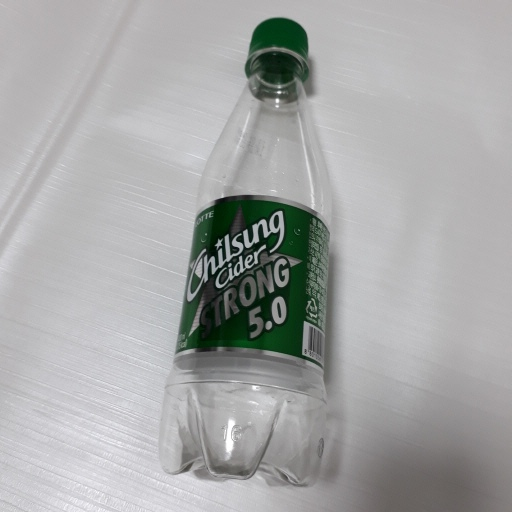Plastic_0: (155, 18, 332, 486)
